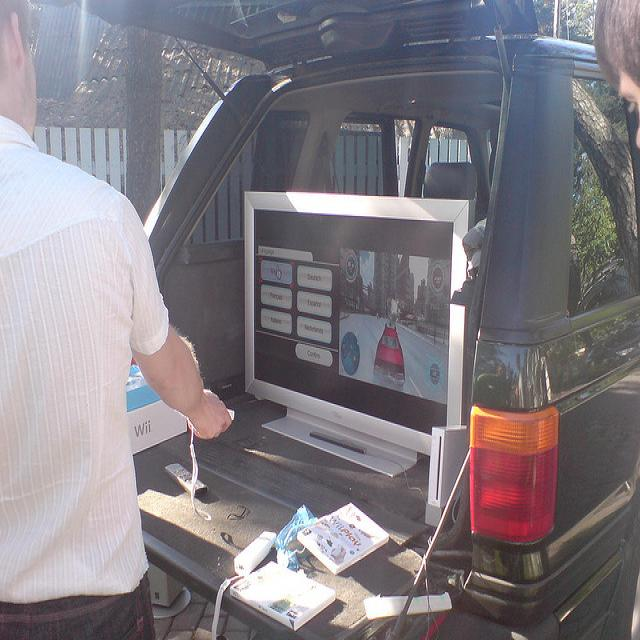Vehicle: (130, 35, 638, 632)
